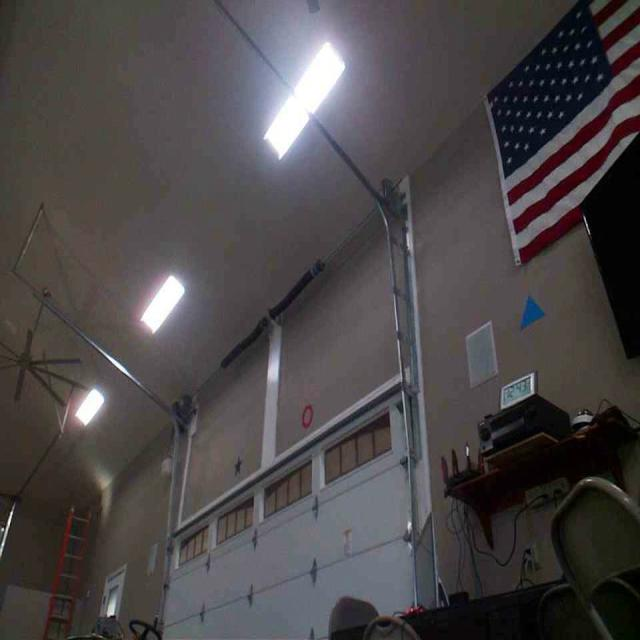ring_red: (301, 400, 313, 427)
star_black: (233, 454, 243, 476)
triangle_blue: (519, 292, 546, 327)
